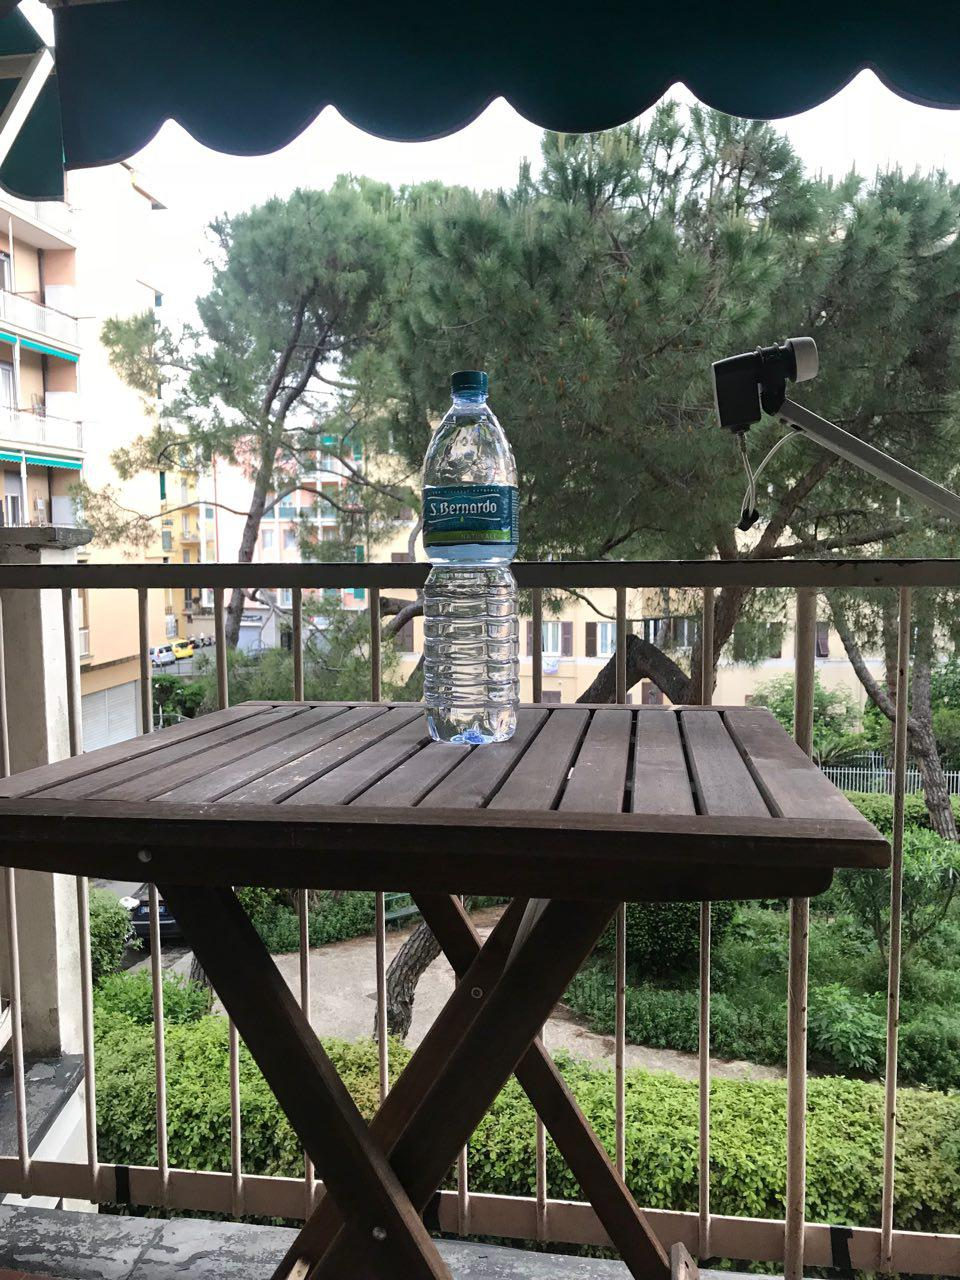san_bernardo: (421, 370, 520, 744)
